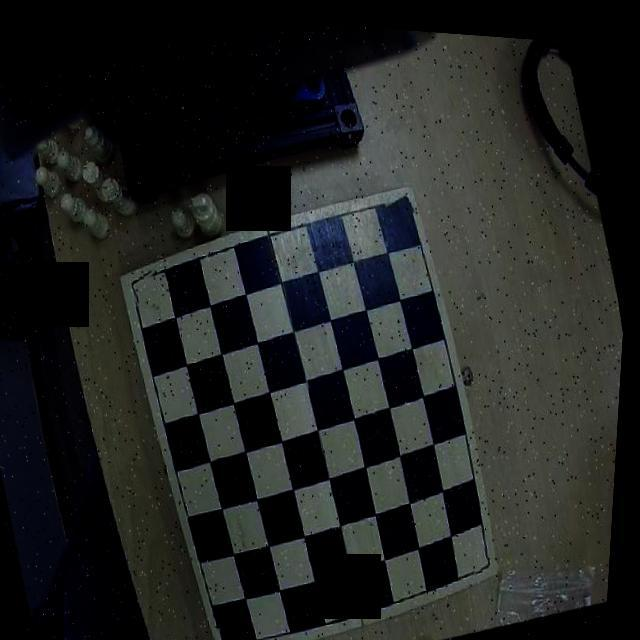chess-table-corners: (123, 264, 164, 304), (384, 180, 424, 220), (473, 538, 508, 575), (217, 616, 254, 640)
